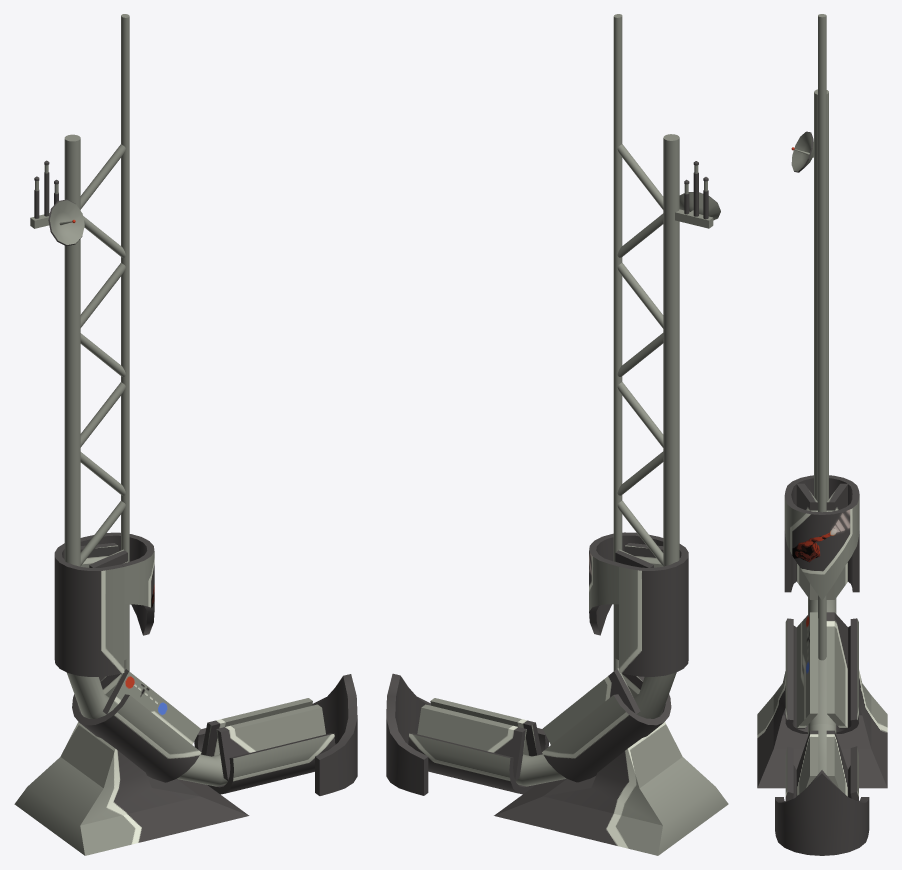
Rendered from com tower.fbx.
The picture shows the model from 3 angles, left to right: view 1: azimuth 30°, elevation 25°; view 2: azimuth 150°, elevation 25°; view 3: azimuth 270°, elevation 25°; orthographic projection. The views are drawn at different scales.
Visible parts, largest first — view 1: pCube15; view 2: pCube15; view 3: pCube15.
Boxes of the visible parts, x1,y1,x2,y2 form: pCube15: (14,14,357,855); pCube15: (386,14,728,855); pCube15: (757,14,887,855).
Bounding box in the file's own units: 25.17 × 60.6 × 9.68.
